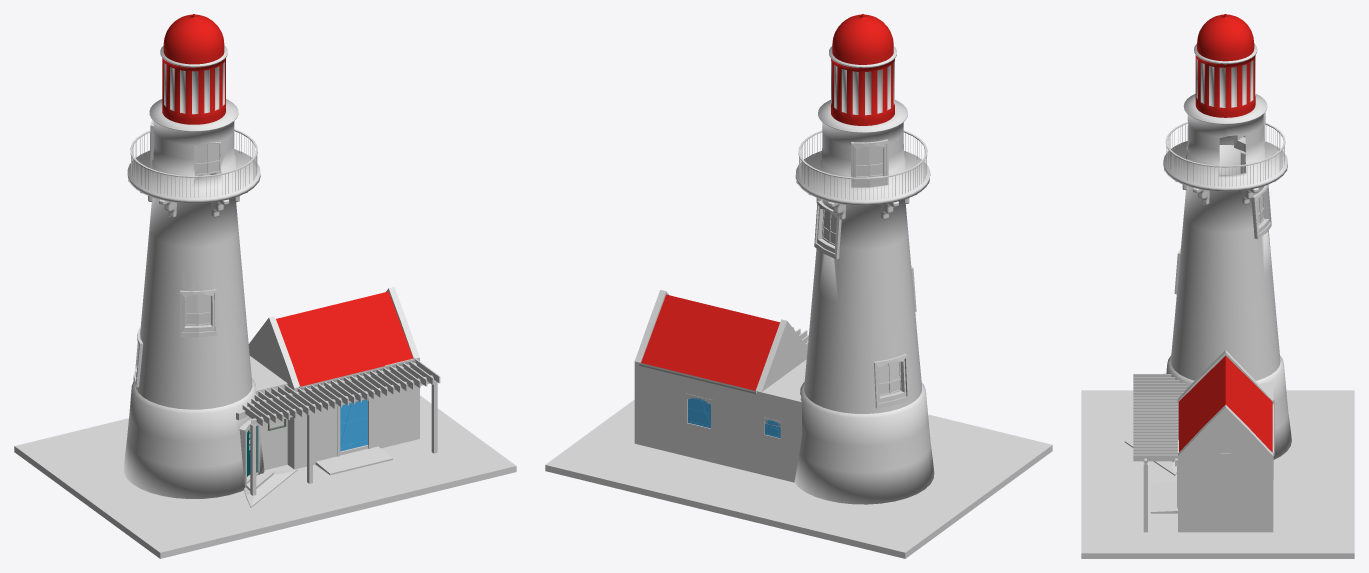
File: MDModel.fbx
3 views of the same model, side by side, from view 1: azimuth 30°, elevation 25°; view 2: azimuth 150°, elevation 25°; view 3: azimuth 270°, elevation 25° (orthographic). The views are drawn at different scales.
Parts seen in each view (by area): view 1: Plane.015, Circle, Plane.001, Lighthouse.Base.001, Plane.012, Circle.002, Grills, Plane.009, Cube.001, Plane.017, Cube.002, Plane.020 (+1 smaller); view 2: Plane.015, Circle, Plane.001, Lighthouse.Base.001, Circle.002, Grills, Plane.024, Plane.025, Plane.026, Plane.018, Plane.021; view 3: Plane.015, Circle, Plane.001, Circle.002, Plane.012, Lighthouse.Base.001, Grills, Cube.001, Plane.018, Plane, Window.
Part boxes in pixels (x1,y1,x2,y2): Plane.015: (14, 395, 516, 558); Circle: (127, 99, 260, 409); Plane.001: (248, 287, 419, 470); Lighthouse.Base.001: (123, 378, 264, 498); Plane.012: (236, 359, 440, 495); Circle.002: (160, 14, 227, 124); Grills: (130, 129, 257, 197); Plane.009: (340, 399, 367, 451); Cube.001: (315, 446, 392, 475); Plane.017: (179, 289, 217, 337); Cube.002: (244, 469, 297, 507); Plane.020: (194, 142, 220, 175); Plane.015: (545, 399, 1052, 558); Circle: (795, 100, 930, 413); Plane.001: (634, 290, 807, 482); Lighthouse.Base.001: (794, 382, 934, 504); Circle.002: (829, 14, 896, 125); Grills: (798, 130, 927, 199); Plane.024: (874, 354, 908, 408); Plane.025: (851, 139, 888, 187); Plane.026: (856, 146, 883, 177); Plane.018: (814, 201, 841, 259); Plane.021: (878, 361, 901, 396); Plane.015: (1081, 390, 1354, 558); Circle: (1163, 94, 1287, 380); Plane.001: (1178, 350, 1273, 532); Circle.002: (1194, 14, 1257, 117); Plane.012: (1133, 373, 1188, 532); Lighthouse.Base.001: (1166, 355, 1291, 459); Grills: (1165, 122, 1285, 186); Cube.001: (1150, 482, 1177, 513); Plane.018: (1251, 185, 1271, 239); Plane: (1164, 152, 1287, 204); Window: (1219, 426, 1231, 455).
Size of the model in its own units: 595 by 736 by 422.
